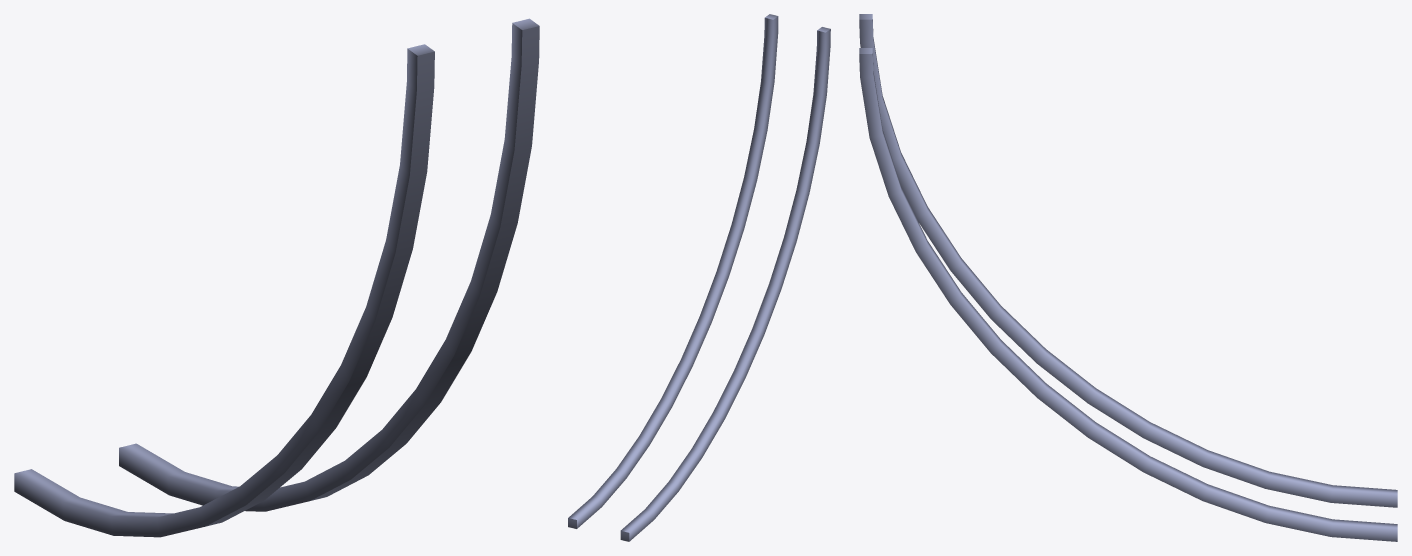
The model's file is railroad-rail-straight-bend-large.glb.
The picture shows the model from 3 angles, left to right: view 1: azimuth 30°, elevation 25°; view 2: azimuth 150°, elevation 25°; view 3: azimuth 270°, elevation 25°; orthographic projection. The views are drawn at different scales.
Visible parts, largest first — view 1: railroad-rail-straight-bend-large; view 2: railroad-rail-straight-bend-large; view 3: railroad-rail-straight-bend-large.
Part boxes in pixels (bbox=[...]): railroad-rail-straight-bend-large: bbox=[14, 18, 539, 537]; railroad-rail-straight-bend-large: bbox=[568, 14, 830, 541]; railroad-rail-straight-bend-large: bbox=[859, 14, 1397, 541].
Size of the model in its own units: 0.7 by 4 by 4.
